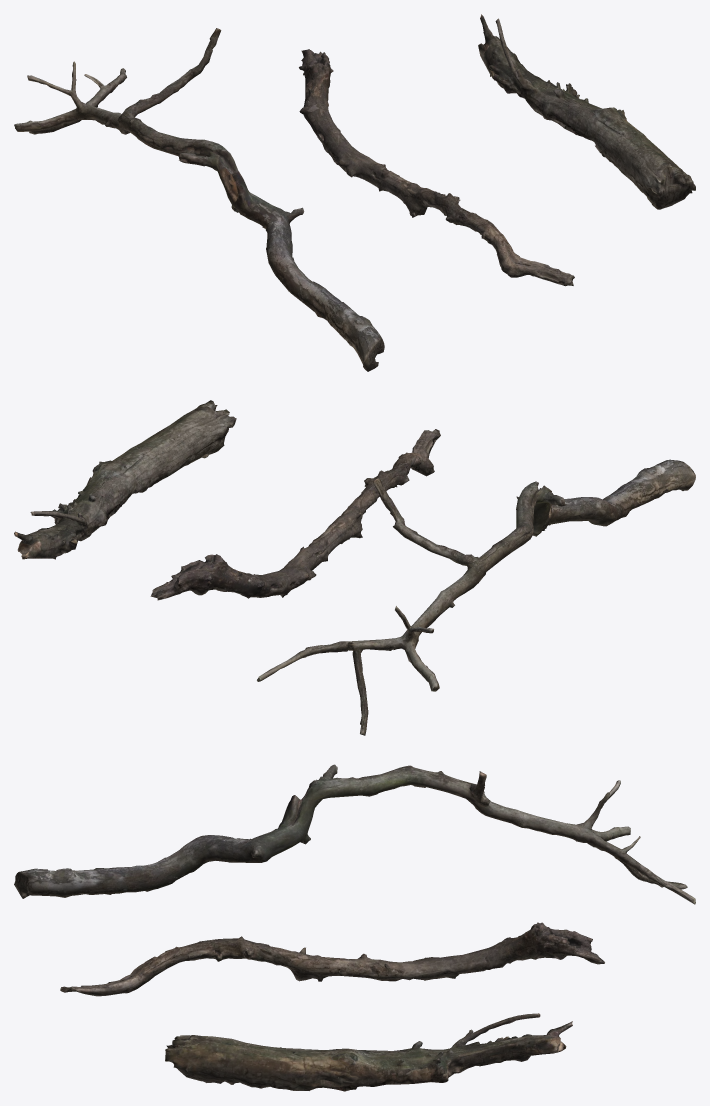
File: dry-branches-medium-01.glb
The picture shows the model from 3 angles, top to bottom: view 1: azimuth 30°, elevation 25°; view 2: azimuth 150°, elevation 25°; view 3: azimuth 270°, elevation 25°; orthographic projection. The views are drawn at different scales.
Parts seen in each view (by area): view 1: dry_branches_medium_01_c; view 2: dry_branches_medium_01_c; view 3: dry_branches_medium_01_c.
Boxes of the visible parts, <box> form: dry_branches_medium_01_c: <box>14,14,695,371</box>; dry_branches_medium_01_c: <box>14,400,695,735</box>; dry_branches_medium_01_c: <box>14,764,695,1091</box>.
Size of the model in its own units: 1.06 by 0.341 by 1.3.
Materials: 1 (1 with a texture image).
